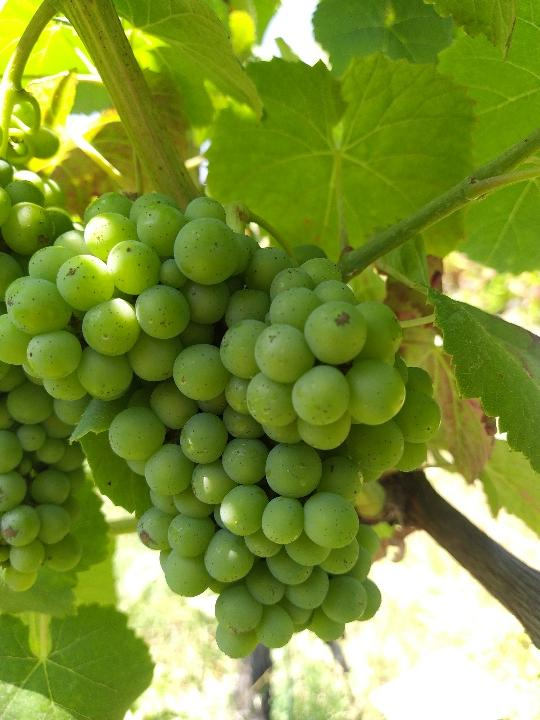grape: (6, 188, 443, 662)
